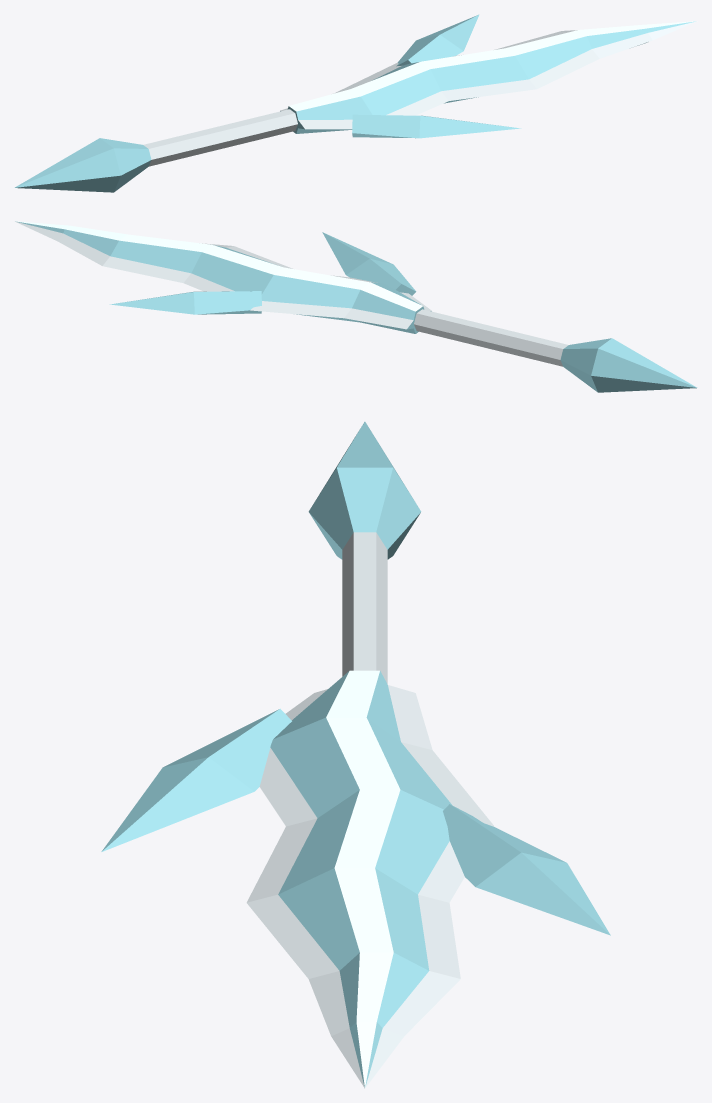
File: isolde-blade.glb
3 views of the same model, one above another, from view 1: azimuth 30°, elevation 25°; view 2: azimuth 150°, elevation 25°; view 3: azimuth 270°, elevation 25° (orthographic). The views are drawn at different scales.
Parts seen in each view (by area): view 1: ISOLDE_BLADE; view 2: ISOLDE_BLADE; view 3: ISOLDE_BLADE.
Boxes of the visible parts, x1,y1,x2,y2 form: ISOLDE_BLADE: (14, 14, 697, 192); ISOLDE_BLADE: (15, 221, 697, 392); ISOLDE_BLADE: (101, 421, 610, 1088).
Size of the model in its own units: 1.4 by 0.0866 by 0.4521.
